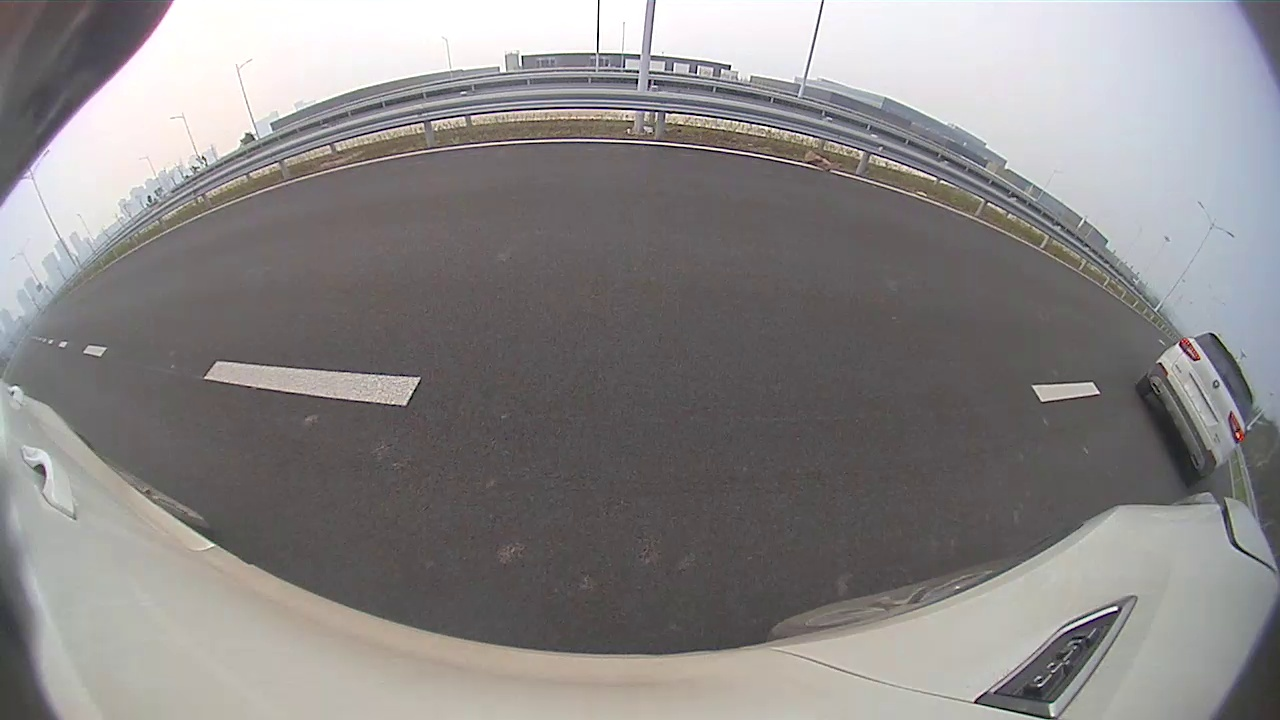car: (1134, 333, 1254, 488)
